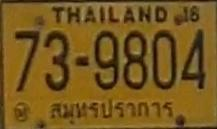0: (151, 30, 176, 88)
3: (43, 30, 68, 90)
4: (180, 28, 204, 88)
7: (14, 30, 39, 91)
8: (123, 30, 146, 89)
9: (93, 30, 118, 88)
SPK: (47, 96, 177, 121)
